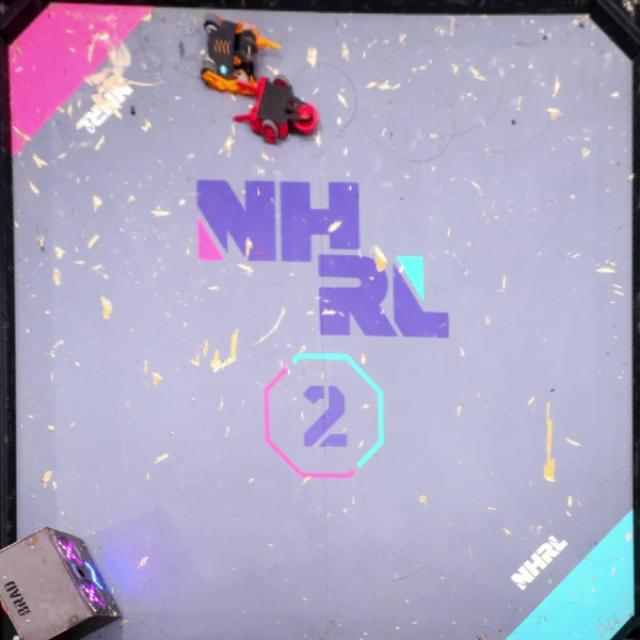housebot: (0, 527, 122, 640)
robot: (198, 14, 279, 95), (232, 76, 320, 146)
